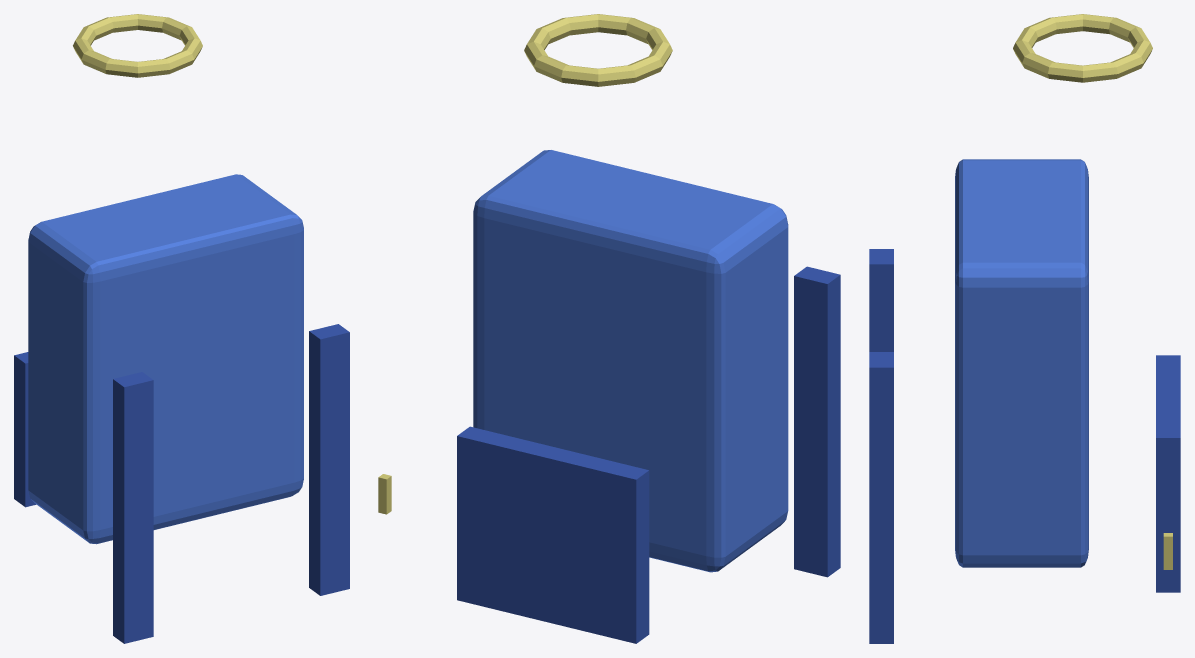
Rendered from backpack.fbx.
3 renders of one model, left to right at view 1: azimuth 30°, elevation 25°; view 2: azimuth 150°, elevation 25°; view 3: azimuth 270°, elevation 25°, orthographic. The views are drawn at different scales.
Parts seen in each view (by area): view 1: Backpack; view 2: Backpack; view 3: Backpack.
Part boxes in pixels (<box>): Backpack: <box>14,14,349,643</box>; Backpack: <box>378,14,840,643</box>; Backpack: <box>869,14,1180,643</box>.
Bounding box in the file's own units: 53.75 × 98.5 × 51.
